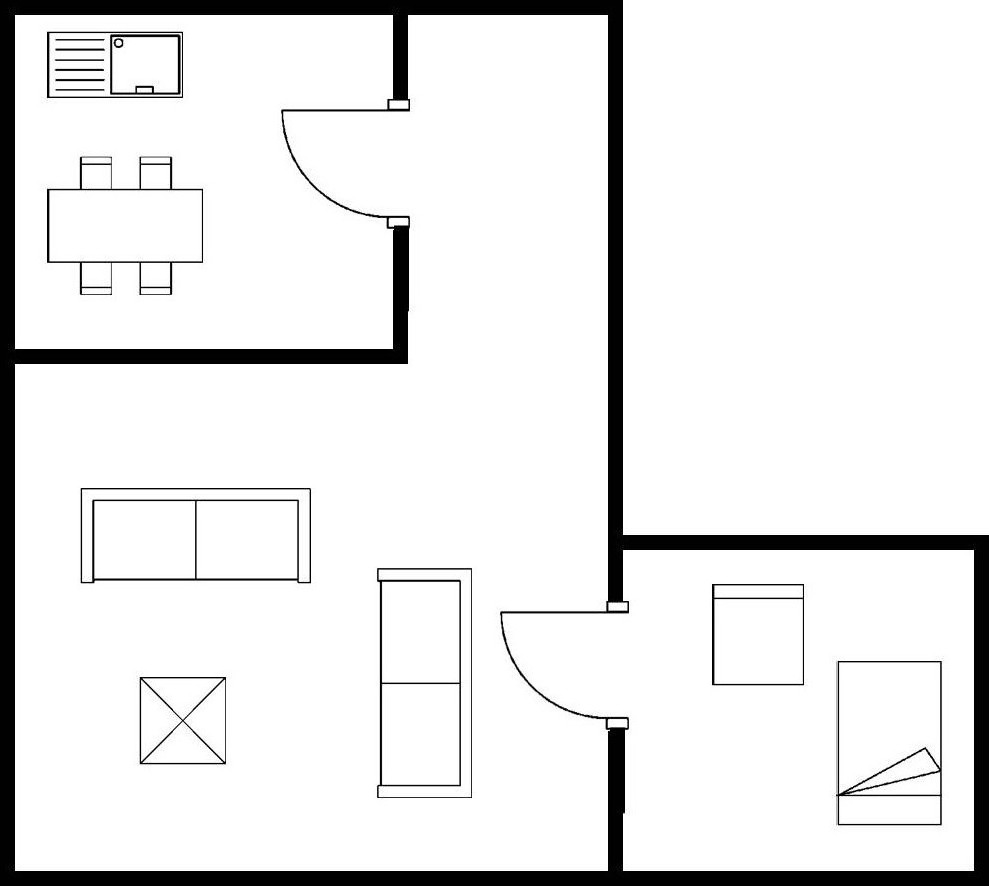bed: (833, 657, 946, 833)
coffee_table: (136, 672, 232, 771)
dining_table: (41, 151, 208, 298)
large_sofa: (76, 483, 317, 592), (372, 564, 476, 804)
sink: (42, 26, 189, 105)
small_sofa: (705, 578, 809, 690)
